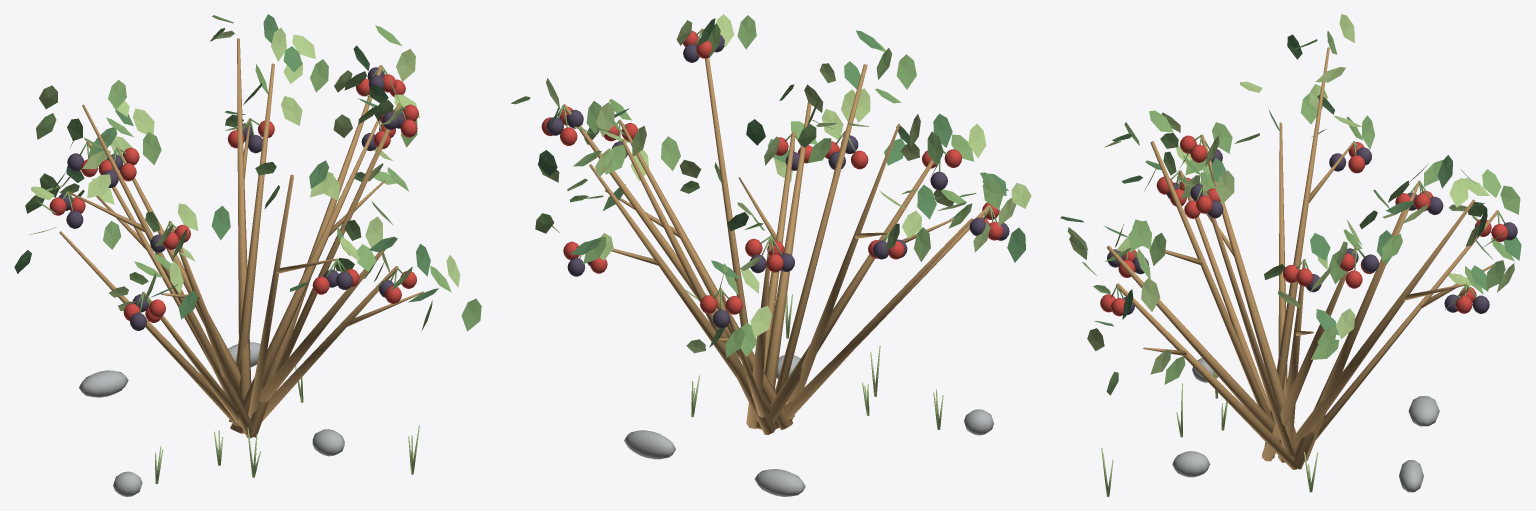
File: berry_bush_b.glb
3 renders of one model, left to right at view 1: azimuth 30°, elevation 25°; view 2: azimuth 150°, elevation 25°; view 3: azimuth 270°, elevation 25°, orthographic. The views are drawn at different scales.
Visible parts, largest first — view 1: berry_bush_b_stem_2, berry_bush_b_stem_0, berry_bush_b_stem_3, berry_bush_b_stem_6, berry_bush_b_stem_1, berry_bush_b_stem_10, berry_bush_b_stem_13, berry_bush_b_stem_11, berry_bush_b_stem_12, berry_bush_b_stem_7, berry_bush_b_stem_8, berry_bush_b_stem_9 (+5 smaller); view 2: berry_bush_b_stem_10, berry_bush_b_stem_11, berry_bush_b_stem_8, berry_bush_b_stem_6, berry_bush_b_stem_0, berry_bush_b_stem_7, berry_bush_b_stem_3, berry_bush_b_stem_2, berry_bush_b_stem_13, berry_bush_b_stem_1, berry_bush_b_stem_12, berry_bush_ground_rock_0 (+5 smaller); view 3: berry_bush_b_stem_2, berry_bush_b_stem_6, berry_bush_b_stem_10, berry_bush_b_stem_8, berry_bush_b_stem_12, berry_bush_b_stem_11, berry_bush_b_stem_13, berry_bush_b_stem_4, berry_bush_b_stem_3, berry_bush_b_stem_1, berry_bush_b_stem_9, berry_bush_b_stem_7 (+5 smaller).
Boxes of the visible parts, left/top/right/bottom form: berry_bush_b_stem_2: left=237, top=38, right=251, bottom=399; berry_bush_b_stem_0: left=230, top=120, right=378, bottom=433; berry_bush_b_stem_3: left=229, top=63, right=274, bottom=422; berry_bush_b_stem_6: left=82, top=104, right=253, bottom=438; berry_bush_b_stem_1: left=246, top=65, right=382, bottom=437; berry_bush_b_stem_10: left=248, top=175, right=293, bottom=418; berry_bush_b_stem_13: left=275, top=103, right=401, bottom=372; berry_bush_b_stem_11: left=259, top=249, right=385, bottom=402; berry_bush_b_stem_12: left=262, top=266, right=398, bottom=421; berry_bush_b_stem_7: left=59, top=231, right=244, bottom=433; berry_bush_b_stem_8: left=168, top=221, right=244, bottom=405; berry_bush_b_stem_9: left=142, top=291, right=241, bottom=427; berry_bush_b_stem_10: left=775, top=64, right=867, bottom=394; berry_bush_b_stem_11: left=756, top=102, right=811, bottom=429; berry_bush_b_stem_8: left=761, top=159, right=933, bottom=428; berry_bush_b_stem_6: left=786, top=124, right=900, bottom=420; berry_bush_b_stem_0: left=619, top=119, right=792, bottom=429; berry_bush_b_stem_7: left=779, top=218, right=972, bottom=428; berry_bush_b_stem_3: left=621, top=140, right=775, bottom=434; berry_bush_b_stem_2: left=589, top=164, right=779, bottom=428; berry_bush_b_stem_13: left=701, top=29, right=747, bottom=326; berry_bush_b_stem_1: left=562, top=104, right=794, bottom=419; berry_bush_b_stem_12: left=763, top=132, right=795, bottom=371; berry_bush_ground_rock_0: left=624, top=430, right=675, bottom=459; berry_bush_b_stem_2: left=1291, top=199, right=1475, bottom=447; berry_bush_b_stem_6: left=1264, top=47, right=1329, bottom=457; berry_bush_b_stem_10: left=1150, top=141, right=1284, bottom=462; berry_bush_b_stem_8: left=1200, top=135, right=1295, bottom=436; berry_bush_b_stem_12: left=1116, top=283, right=1296, bottom=469; berry_bush_b_stem_11: left=1107, top=246, right=1306, bottom=461; berry_bush_b_stem_13: left=1201, top=185, right=1294, bottom=456; berry_bush_b_stem_4: left=1316, top=210, right=1498, bottom=439; berry_bush_b_stem_3: left=1306, top=210, right=1405, bottom=460; berry_bush_b_stem_1: left=1262, top=245, right=1358, bottom=461; berry_bush_b_stem_9: left=1178, top=170, right=1279, bottom=459; berry_bush_b_stem_7: left=1278, top=122, right=1287, bottom=458.
Bounding box in the file's own units: 1.43 × 1.14 × 1.29.
